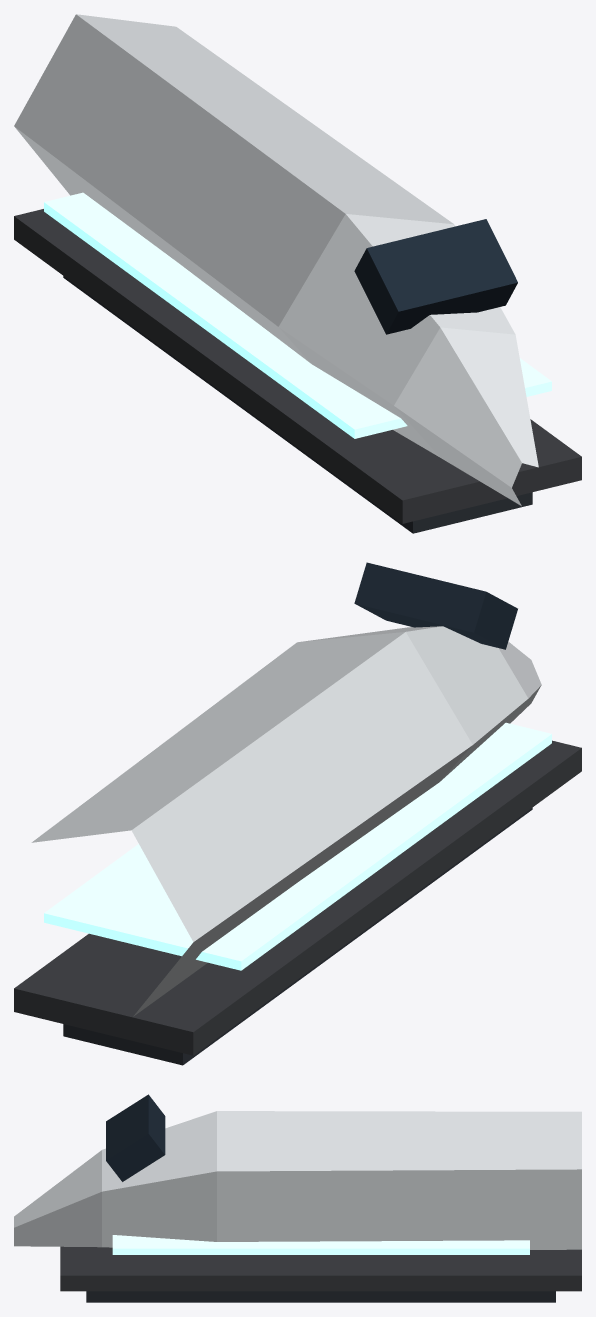
Rendered from veh_ground_locomotive_a09_lod1.glb.
3 views of the same model, one above another, from view 1: azimuth 30°, elevation 25°; view 2: azimuth 150°, elevation 25°; view 3: azimuth 270°, elevation 25° (orthographic). The views are drawn at different scales.
Parts seen in each view (by area): view 1: body; view 2: body; view 3: body.
Part boxes in pixels (bbox=[...]): body: bbox=[14, 14, 581, 533]; body: bbox=[14, 562, 581, 1065]; body: bbox=[14, 1094, 581, 1302].
Bounding box in the file's own units: 2.64 × 3.27 × 9.8.
